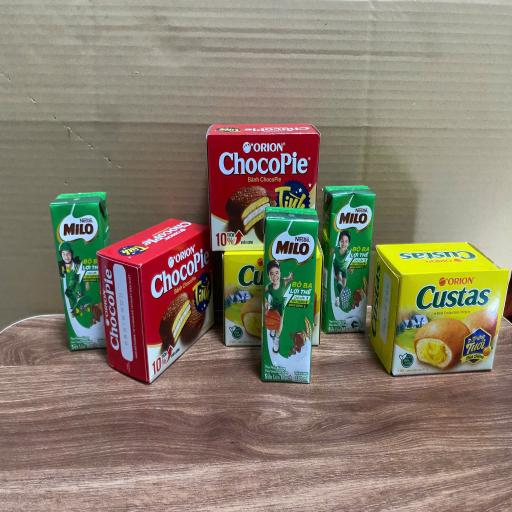chocopie: (98, 218, 214, 384), (206, 124, 320, 251)
custas: (368, 242, 510, 377), (222, 240, 324, 347)
milo: (262, 206, 318, 384), (50, 192, 111, 352), (320, 186, 376, 334)
